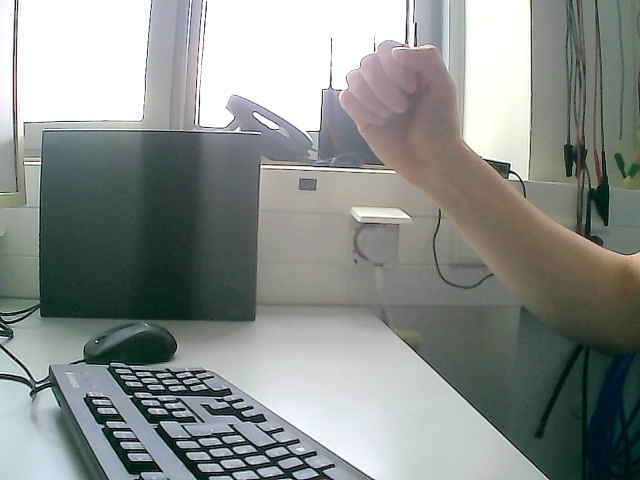no_gesture: (337, 38, 463, 183)
